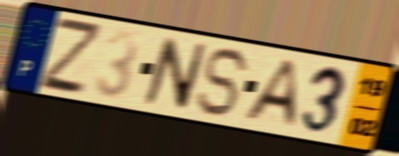3: (298, 63, 353, 138), (94, 28, 142, 100)
A: (240, 58, 299, 130)
N: (140, 34, 211, 113)
S: (193, 45, 255, 120)
Z: (37, 13, 103, 97)
